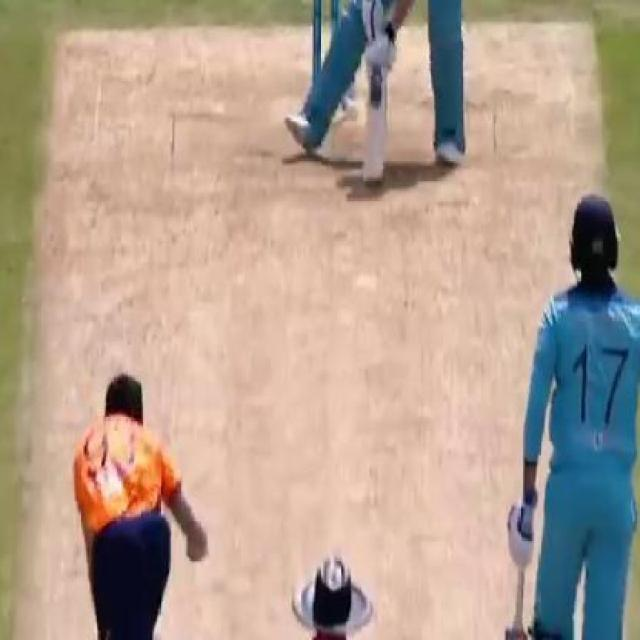Cricket ball: (344, 101, 360, 119)
